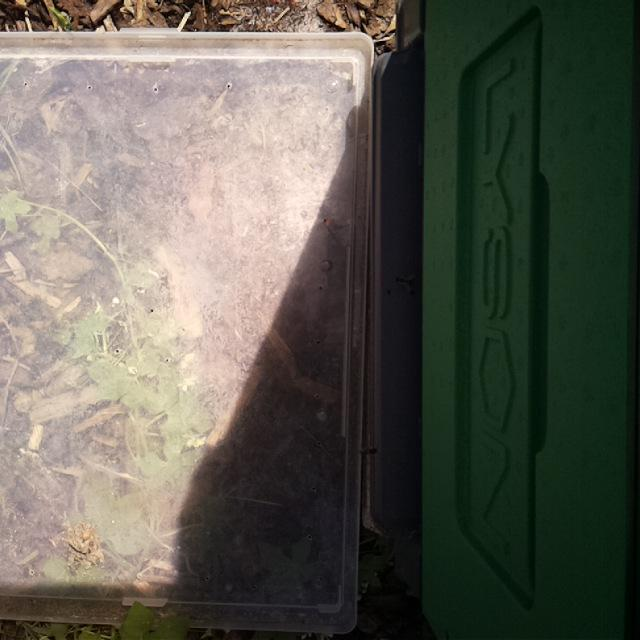worker-bee: (391, 268, 422, 298), (356, 440, 386, 461)
